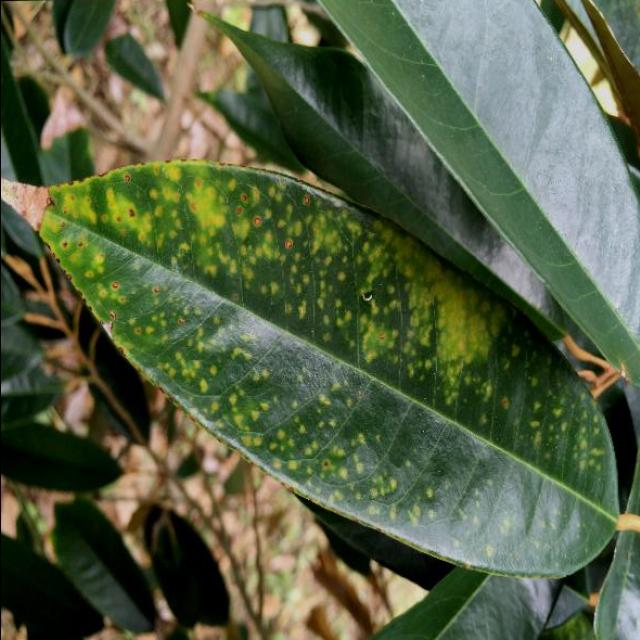Leaf Spot: (0, 145, 630, 601)
